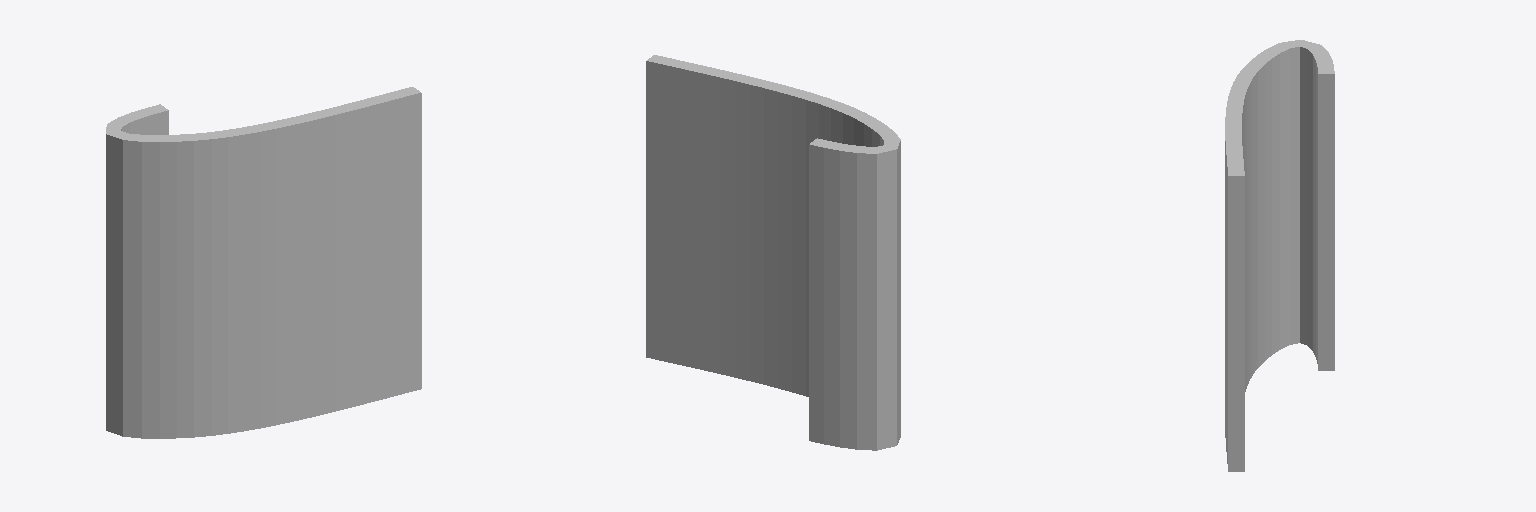
Rendered from EdgeFold1.obj.
The picture shows the model from 3 angles: view 1: azimuth 30°, elevation 25°; view 2: azimuth 150°, elevation 25°; view 3: azimuth 270°, elevation 25°; orthographic projection.
Parts seen in each view (by area): view 1: Cube; view 2: Cube; view 3: Cube.
Part boxes in pixels (x1,y1,x2,y2): Cube: (106,87,421,438); Cube: (646,55,900,450); Cube: (1225,40,1334,471).
Size of the model in its own units: 4.77 by 4.84 by 1.62.